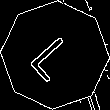L_NE: (26, 26, 84, 84)
